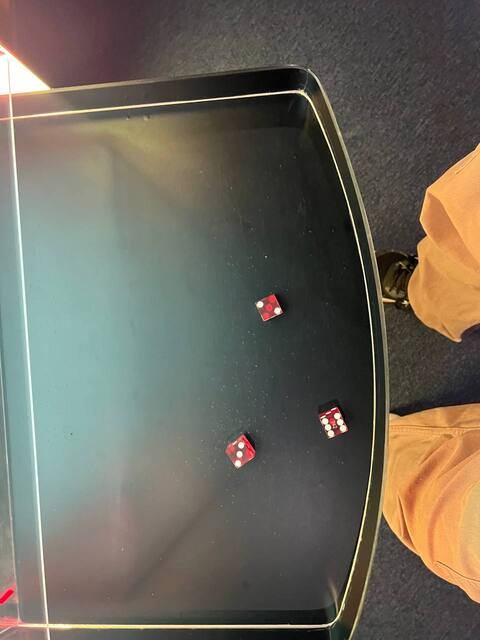six: (318, 408, 349, 440)
three: (226, 438, 257, 471)
two: (253, 292, 285, 327)
